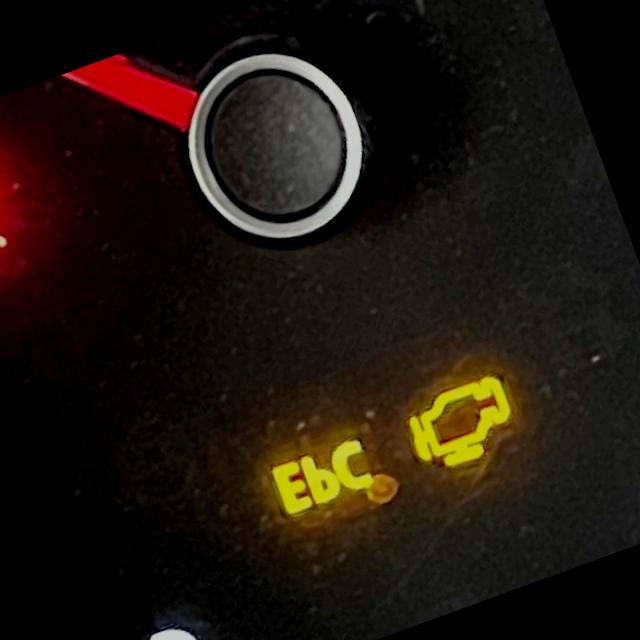kontrolka: (385, 352, 548, 490), (246, 415, 401, 545), (0, 146, 36, 277)
